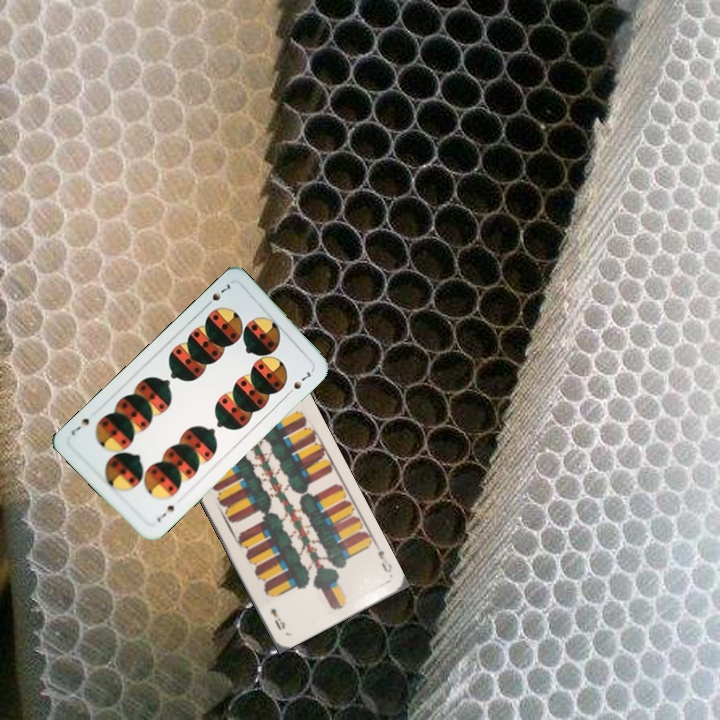E9: (371, 540, 395, 575)
S7: (201, 279, 236, 310), (153, 501, 178, 525)
